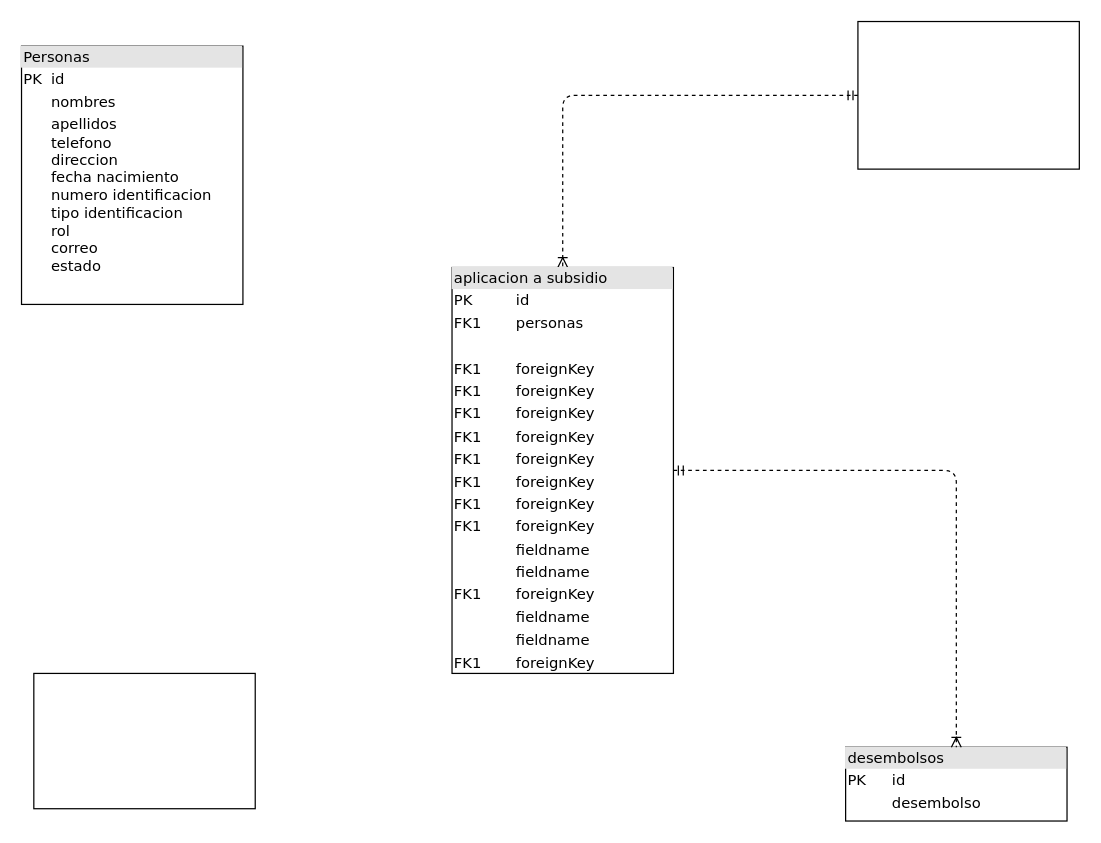
Image size: 1101x843. Some labels were removed from this diagram. The centre of each missing label's shape, as x and y in pixels:
proyectos PK id foreignKey fieldname fieldname foreignKey: (144,740)
Subsidios PK id nombre requisito subrequisito valor: (968,94)
